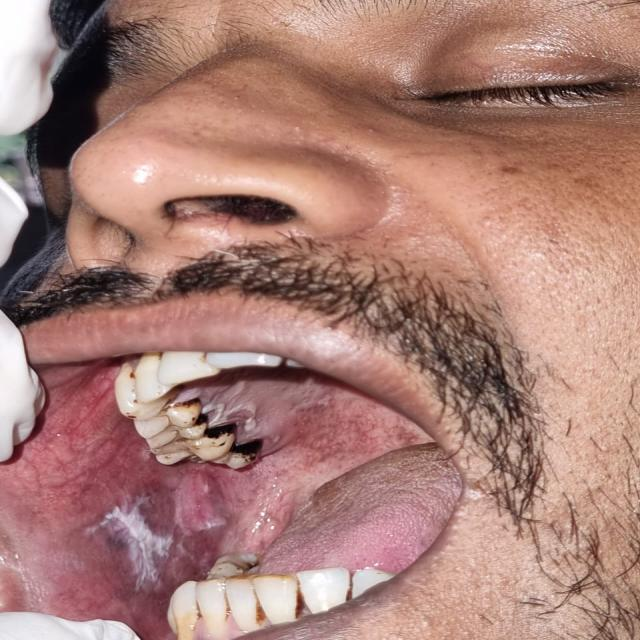leukoplakia-detection: (75, 469, 252, 613), (195, 383, 335, 435)
processing_area: (0, 373, 464, 640)
